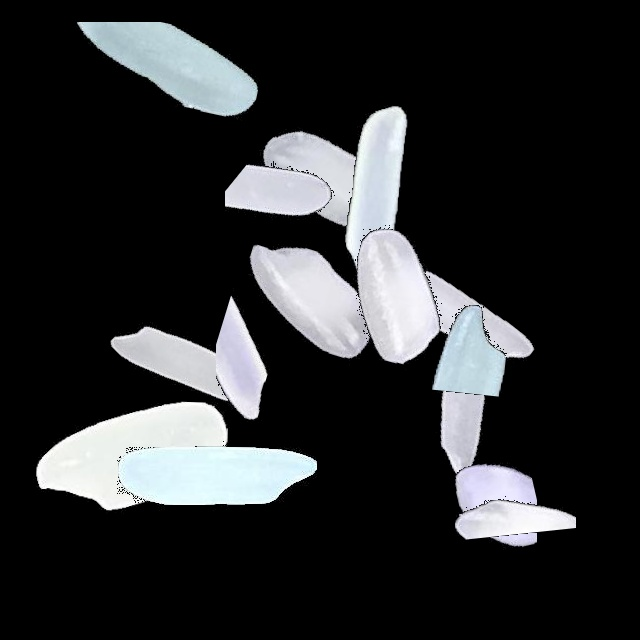Broken: (381, 388, 537, 638), (27, 22, 277, 175), (225, 92, 371, 342), (455, 348, 576, 598), (216, 228, 333, 478), (409, 210, 525, 460)
Full: (342, 195, 592, 445), (57, 239, 307, 489), (5, 331, 255, 581), (342, 276, 592, 526), (204, 53, 454, 303), (183, 171, 433, 421), (93, 351, 343, 601), (252, 69, 502, 319), (274, 171, 524, 421)
